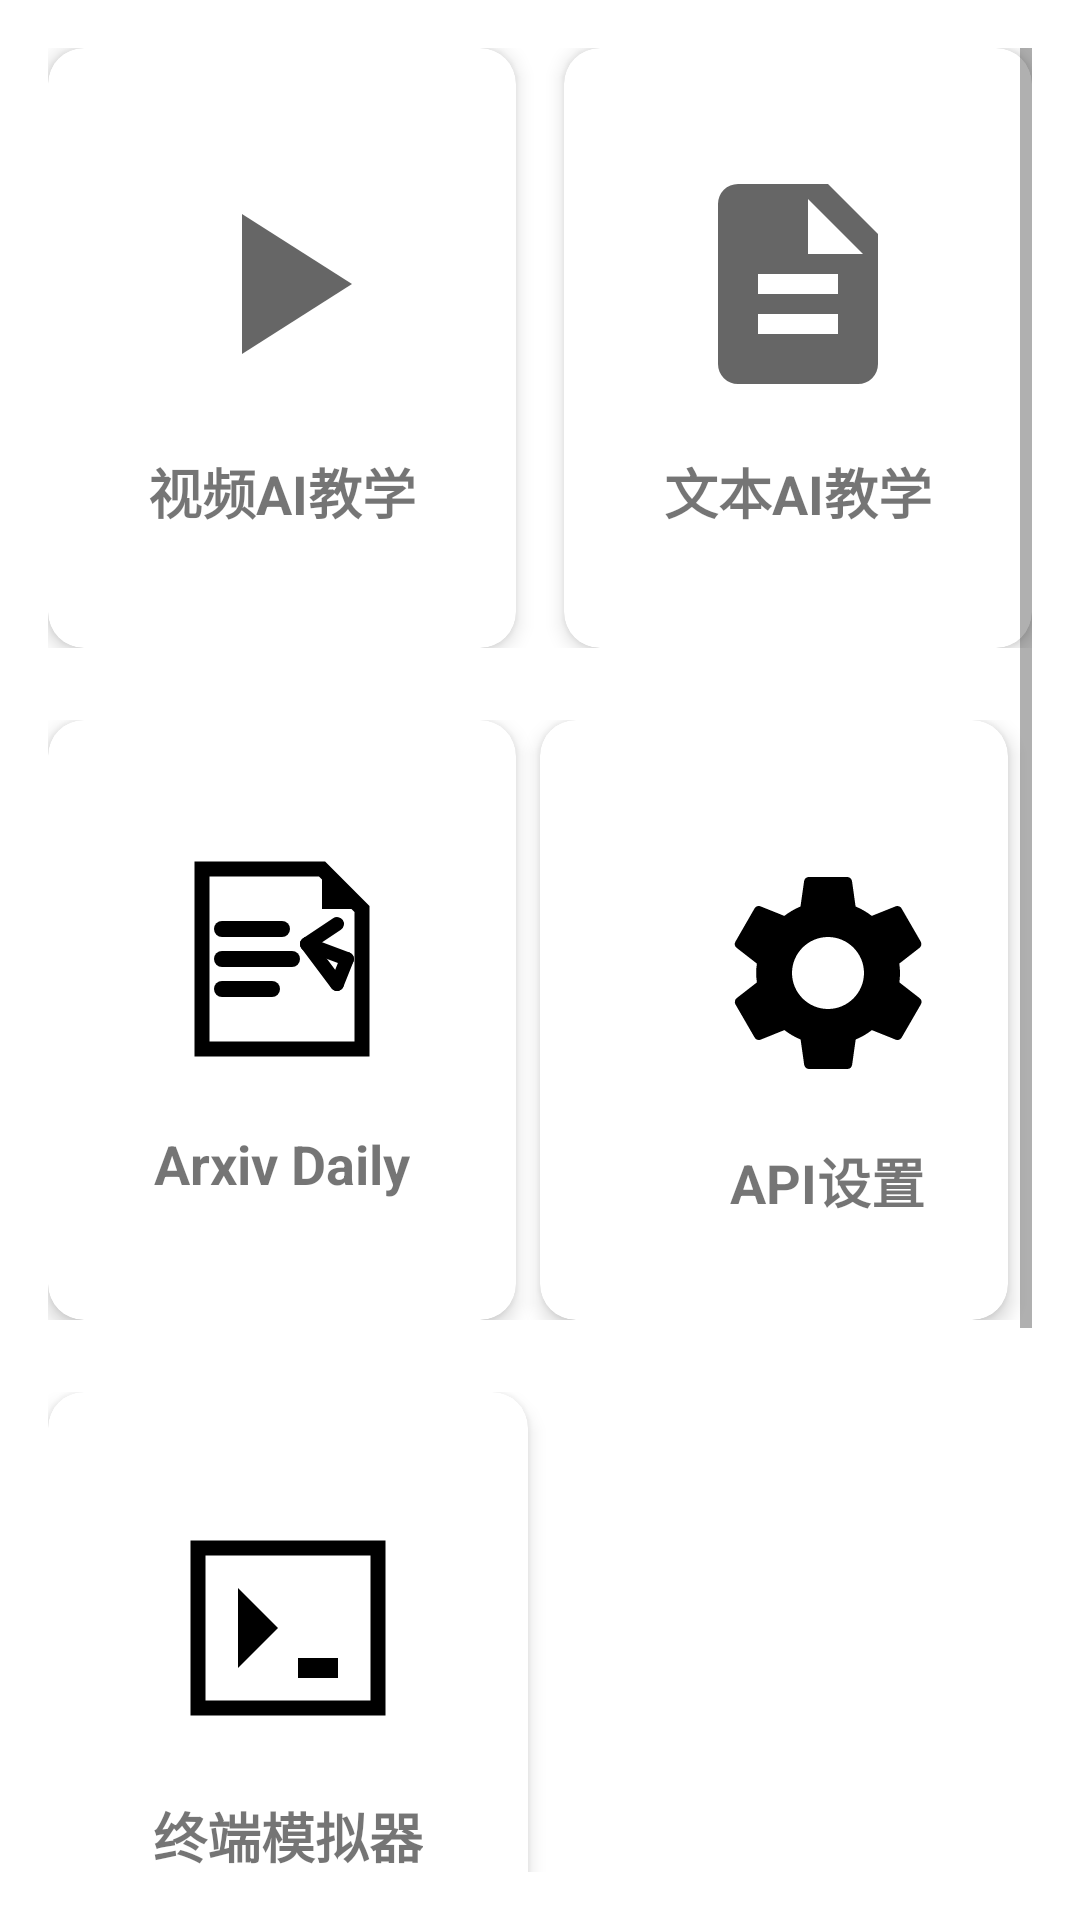

Named icons in this screenshot (1080px×1920px) and their bounding boxes, box(x1, y1, x2, y2):
settings: box(734, 877, 922, 1069)
terminal: box(190, 1540, 386, 1716)
